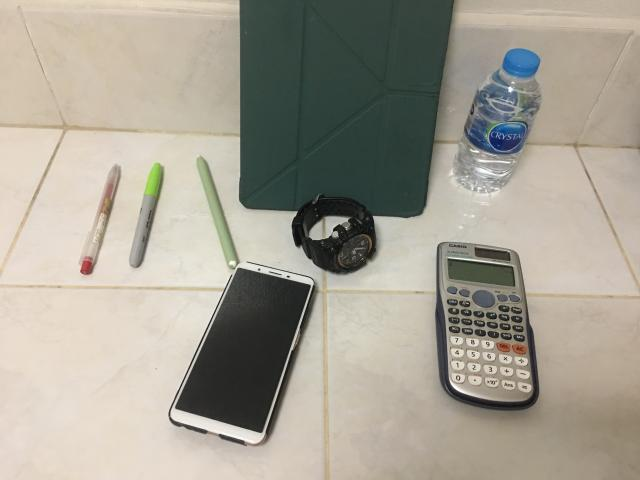Mobile phone: (169, 262, 314, 445)
Pen: (79, 164, 119, 275), (129, 162, 161, 268)
Watch: (291, 194, 376, 272)
bottle: (454, 49, 541, 192)
